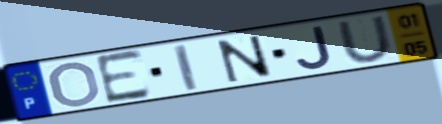E: (92, 47, 154, 106)
I: (171, 42, 202, 93)
J: (295, 24, 336, 71)
N: (214, 34, 277, 85)
O: (47, 60, 103, 109)
U: (334, 13, 397, 64)
